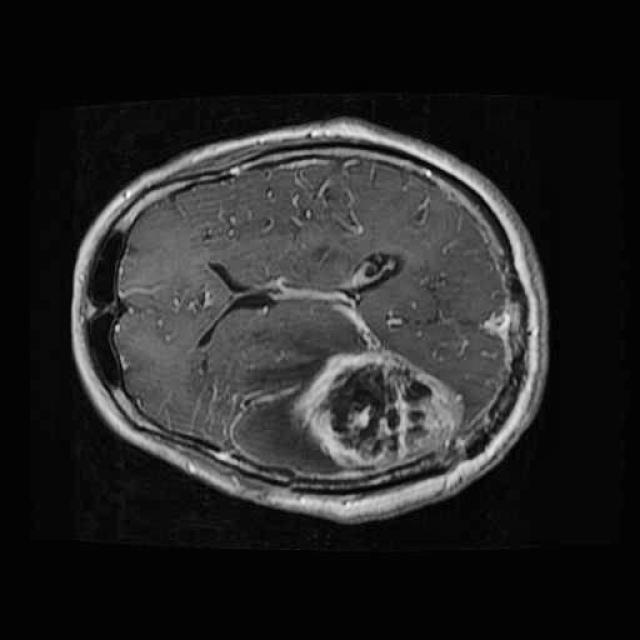Tumor: (288, 329, 477, 485)
